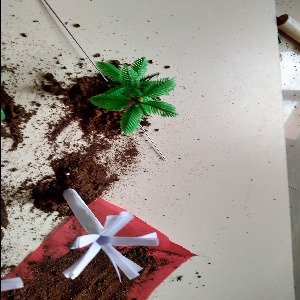plant: (87, 57, 181, 127)
weed: (48, 180, 162, 273)
